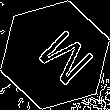M_SW: (20, 21, 90, 89)
